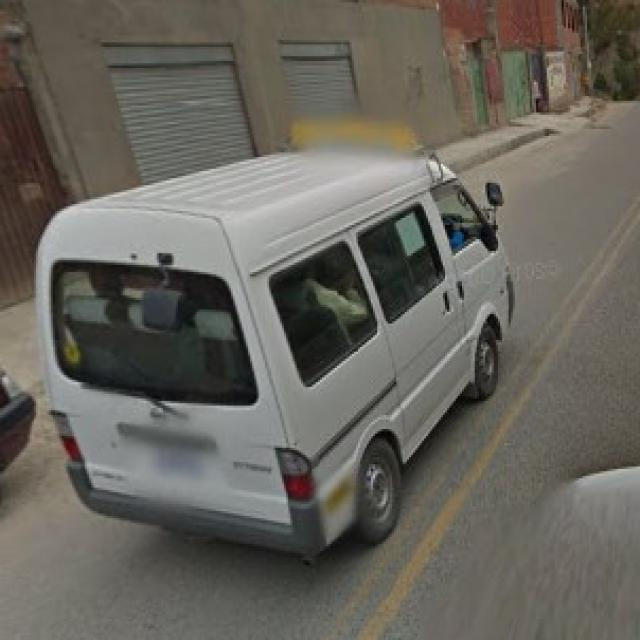car: (34, 133, 516, 564), (1, 367, 37, 473)
